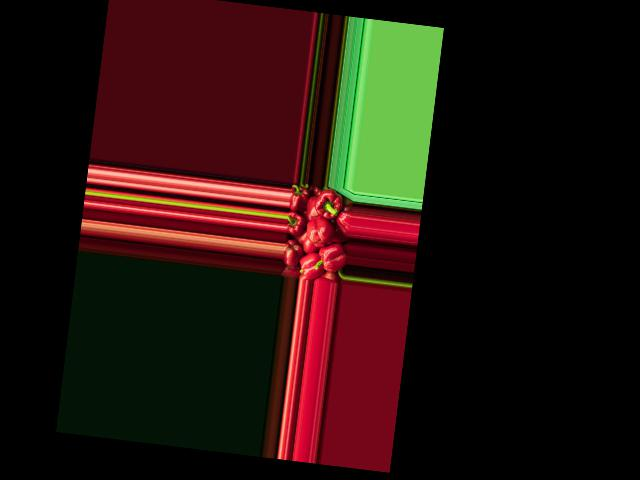bell_pepper: (289, 183, 310, 211)
